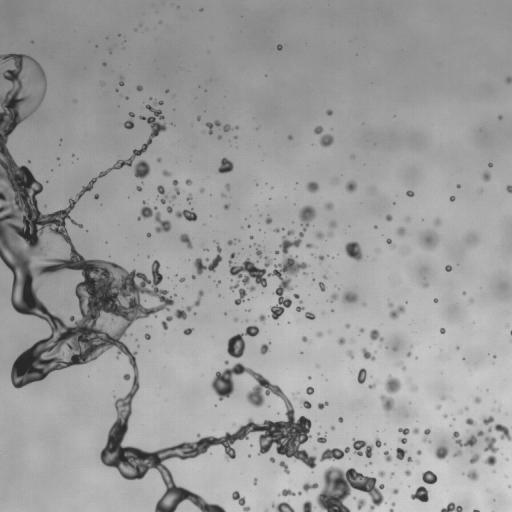droplet: (229, 206, 315, 318), (316, 466, 384, 511), (194, 243, 222, 275), (353, 438, 383, 457), (420, 230, 438, 249), (345, 241, 362, 260), (134, 160, 150, 178), (411, 486, 428, 502), (218, 158, 233, 173), (389, 305, 405, 319), (422, 470, 437, 484), (206, 120, 220, 134), (398, 427, 409, 443), (124, 112, 134, 129), (435, 446, 448, 459), (180, 234, 192, 248), (302, 482, 318, 492), (320, 134, 333, 146), (370, 329, 383, 341), (362, 348, 375, 360), (161, 316, 172, 329), (343, 292, 357, 302), (357, 368, 366, 383), (307, 181, 319, 192), (466, 233, 477, 245), (302, 500, 314, 511), (396, 447, 406, 460), (467, 469, 478, 480), (346, 180, 356, 192), (279, 488, 294, 496), (469, 453, 480, 463), (301, 399, 311, 408), (317, 433, 326, 443), (260, 344, 268, 354), (357, 499, 365, 509), (465, 418, 476, 425), (482, 172, 490, 181), (397, 227, 405, 236), (305, 312, 315, 319), (318, 402, 328, 409), (384, 451, 391, 461), (314, 126, 322, 134), (223, 124, 231, 131), (406, 190, 414, 197), (325, 202, 333, 209), (316, 231, 323, 239), (259, 314, 266, 322), (306, 386, 313, 394), (319, 282, 325, 291), (184, 328, 193, 334), (329, 221, 336, 228), (386, 238, 393, 245), (346, 351, 353, 358), (166, 205, 172, 213), (331, 293, 337, 301), (163, 170, 170, 176), (386, 214, 392, 221), (265, 216, 271, 223), (454, 450, 461, 456), (506, 185, 511, 193), (368, 383, 376, 388), (185, 179, 191, 185), (434, 219, 440, 225), (445, 265, 451, 271), (338, 338, 344, 344), (123, 374, 129, 380), (474, 397, 480, 403), (413, 428, 419, 434), (392, 488, 398, 494), (287, 230, 294, 235), (248, 286, 255, 291), (296, 306, 303, 311), (316, 332, 323, 337), (187, 194, 191, 202), (277, 44, 282, 50), (506, 77, 511, 83), (136, 85, 142, 90), (326, 110, 332, 115), (256, 250, 261, 256), (318, 255, 324, 260), (145, 333, 150, 339), (302, 336, 307, 342), (269, 457, 275, 462), (378, 471, 384, 476), (405, 470, 411, 475), (306, 243, 313, 247), (253, 478, 257, 485), (136, 186, 141, 191), (449, 196, 454, 201), (224, 204, 229, 209), (440, 328, 445, 333), (338, 417, 343, 422), (274, 228, 280, 232), (179, 278, 185, 282), (94, 194, 98, 199), (228, 240, 233, 244), (294, 294, 299, 298), (359, 328, 364, 332), (436, 405, 441, 409), (119, 81, 123, 85), (498, 115, 502, 119), (288, 135, 292, 139), (157, 158, 161, 162), (488, 163, 492, 167), (328, 232, 332, 236), (275, 250, 279, 254), (224, 360, 228, 364), (417, 450, 421, 454), (407, 457, 411, 461), (226, 184, 229, 189), (200, 188, 203, 192), (250, 235, 253, 239), (434, 298, 437, 302), (407, 352, 410, 356), (413, 387, 416, 391), (464, 407, 468, 410), (444, 414, 447, 418), (390, 472, 393, 476), (389, 508, 393, 511), (103, 62, 106, 65), (197, 117, 200, 120), (218, 136, 221, 139), (147, 233, 150, 236), (217, 281, 220, 284), (424, 284, 427, 287), (389, 303, 392, 306), (346, 324, 349, 327), (441, 396, 444, 399), (416, 460, 419, 463), (392, 503, 395, 506), (200, 8, 202, 11), (166, 89, 168, 92), (457, 185, 460, 187), (247, 225, 250, 227), (192, 276, 195, 278), (324, 276, 326, 279), (393, 348, 396, 350), (331, 427, 334, 429), (298, 492, 301, 494), (407, 218, 409, 220), (205, 248, 207, 250), (206, 258, 208, 260), (463, 292, 465, 294), (470, 299, 472, 301)
ligament: (0, 55, 313, 511), (137, 201, 170, 233), (227, 325, 259, 358), (174, 290, 203, 319), (380, 375, 401, 411), (482, 416, 511, 441), (452, 430, 484, 447), (484, 436, 498, 465), (320, 447, 349, 461), (232, 491, 249, 511), (175, 209, 197, 221), (272, 502, 295, 511), (440, 502, 462, 511), (157, 185, 166, 203), (279, 461, 289, 474), (172, 180, 179, 198), (423, 428, 430, 442), (397, 361, 405, 369), (154, 101, 163, 104), (473, 509, 479, 511), (264, 510, 268, 511), (510, 331, 511, 334)
